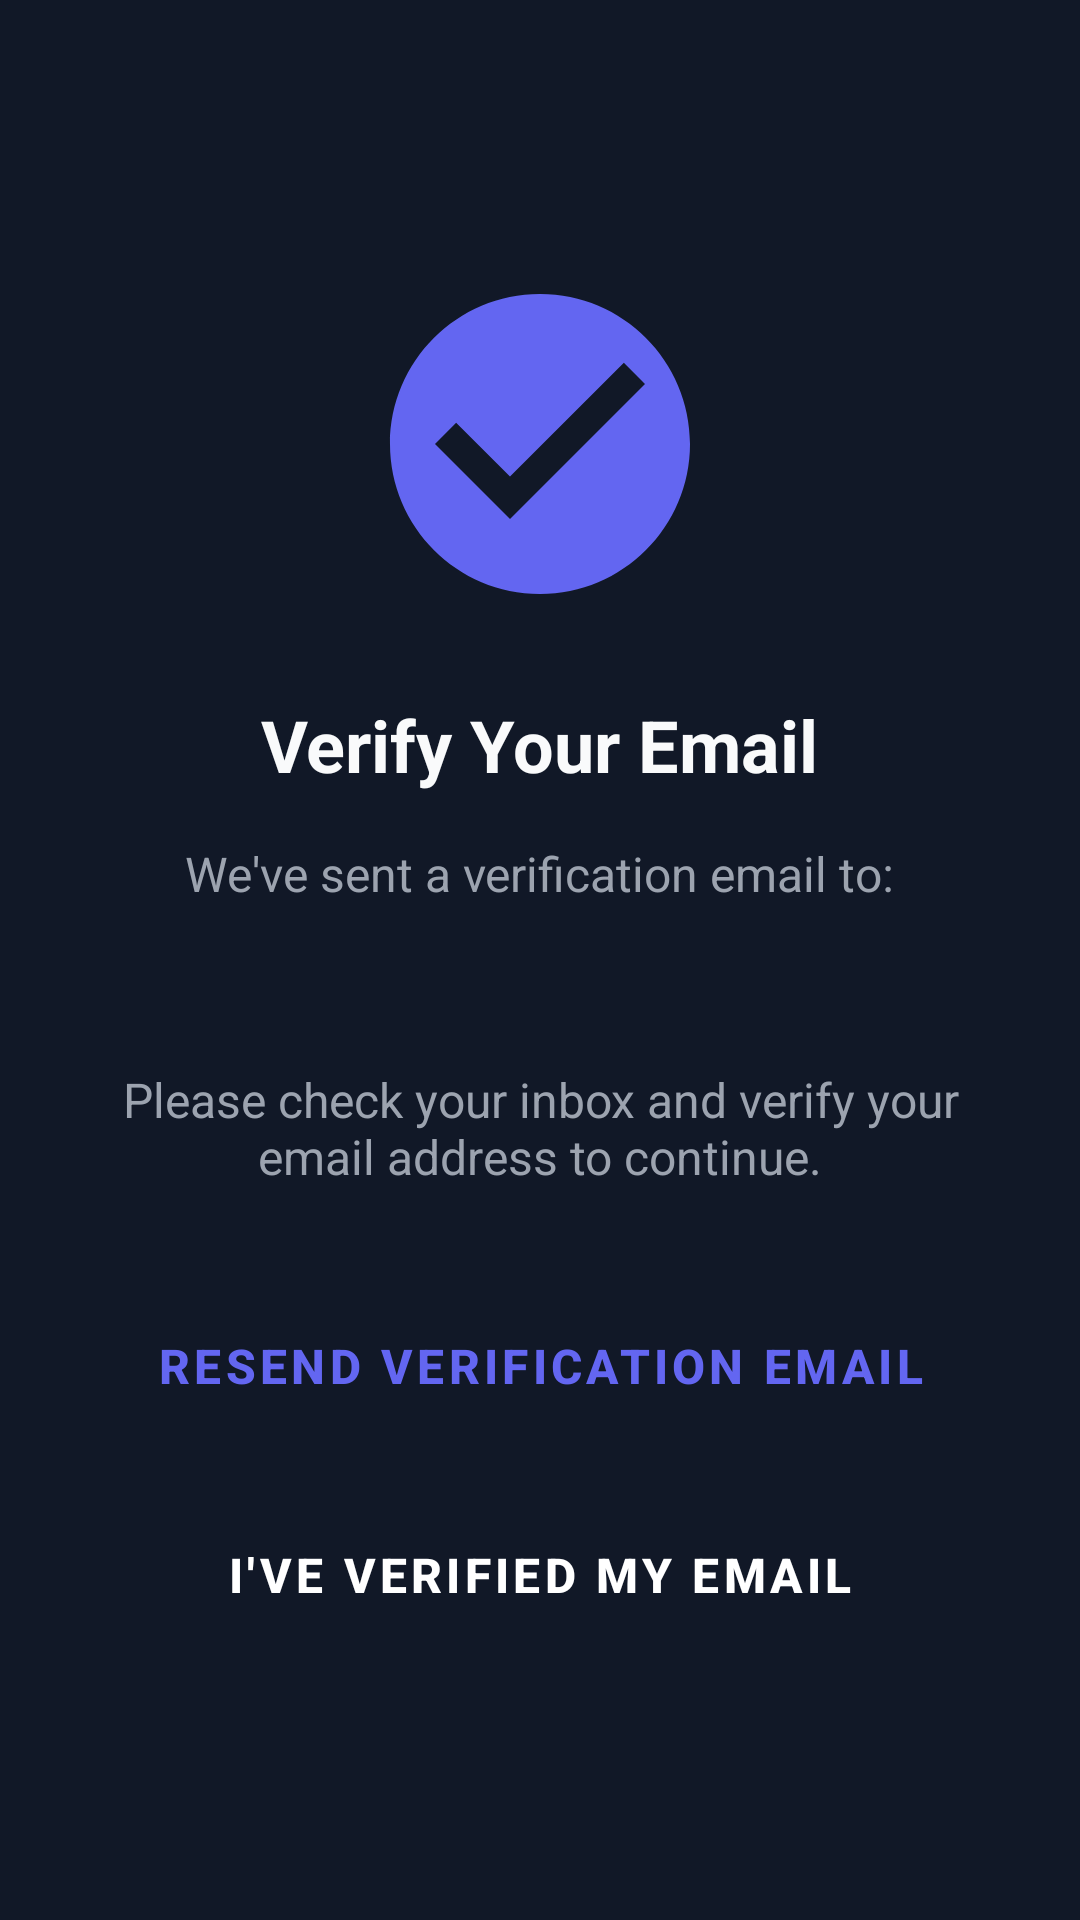

Icon click points for this 1080 x 1920 phone screenshot, format point (x, y):
email verified: point (540, 444)
